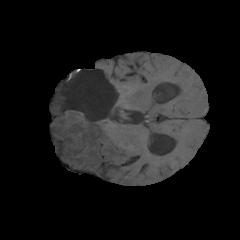glioma: (53, 85, 135, 166)
